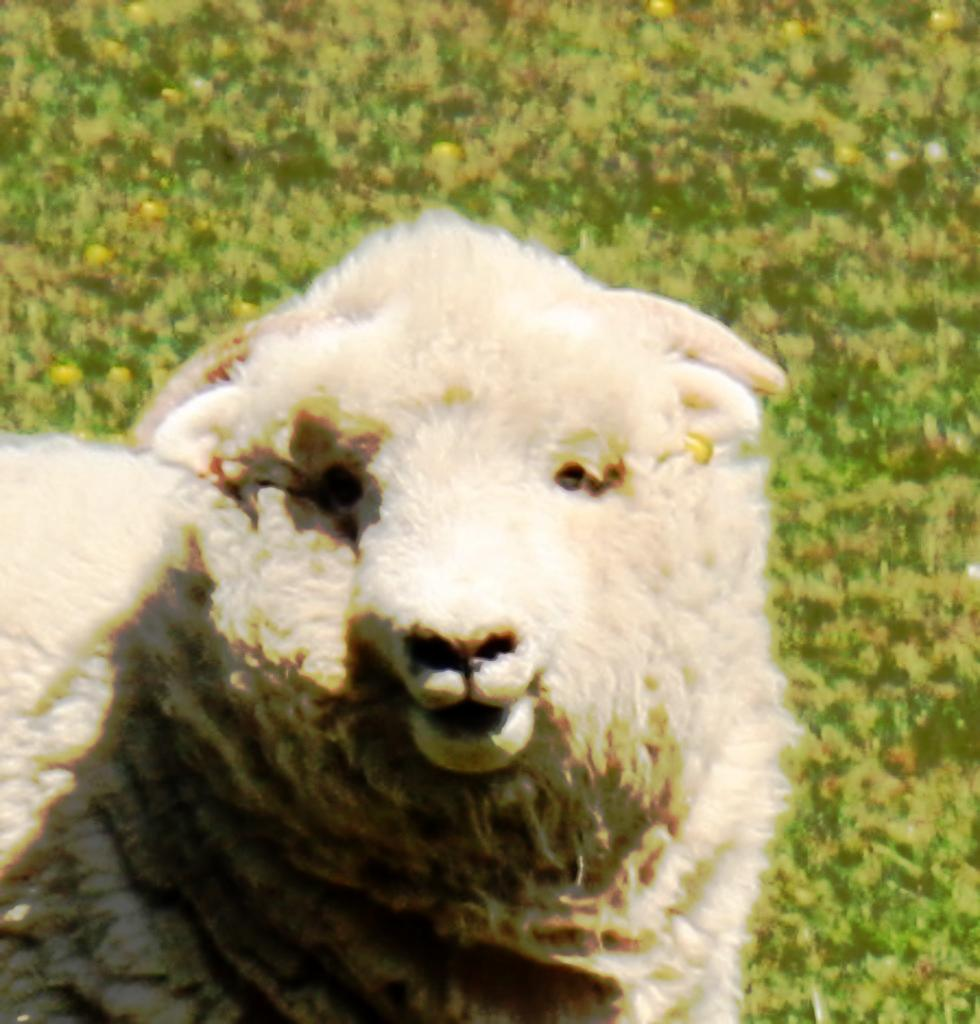Sheep: (0, 208, 797, 1022)
